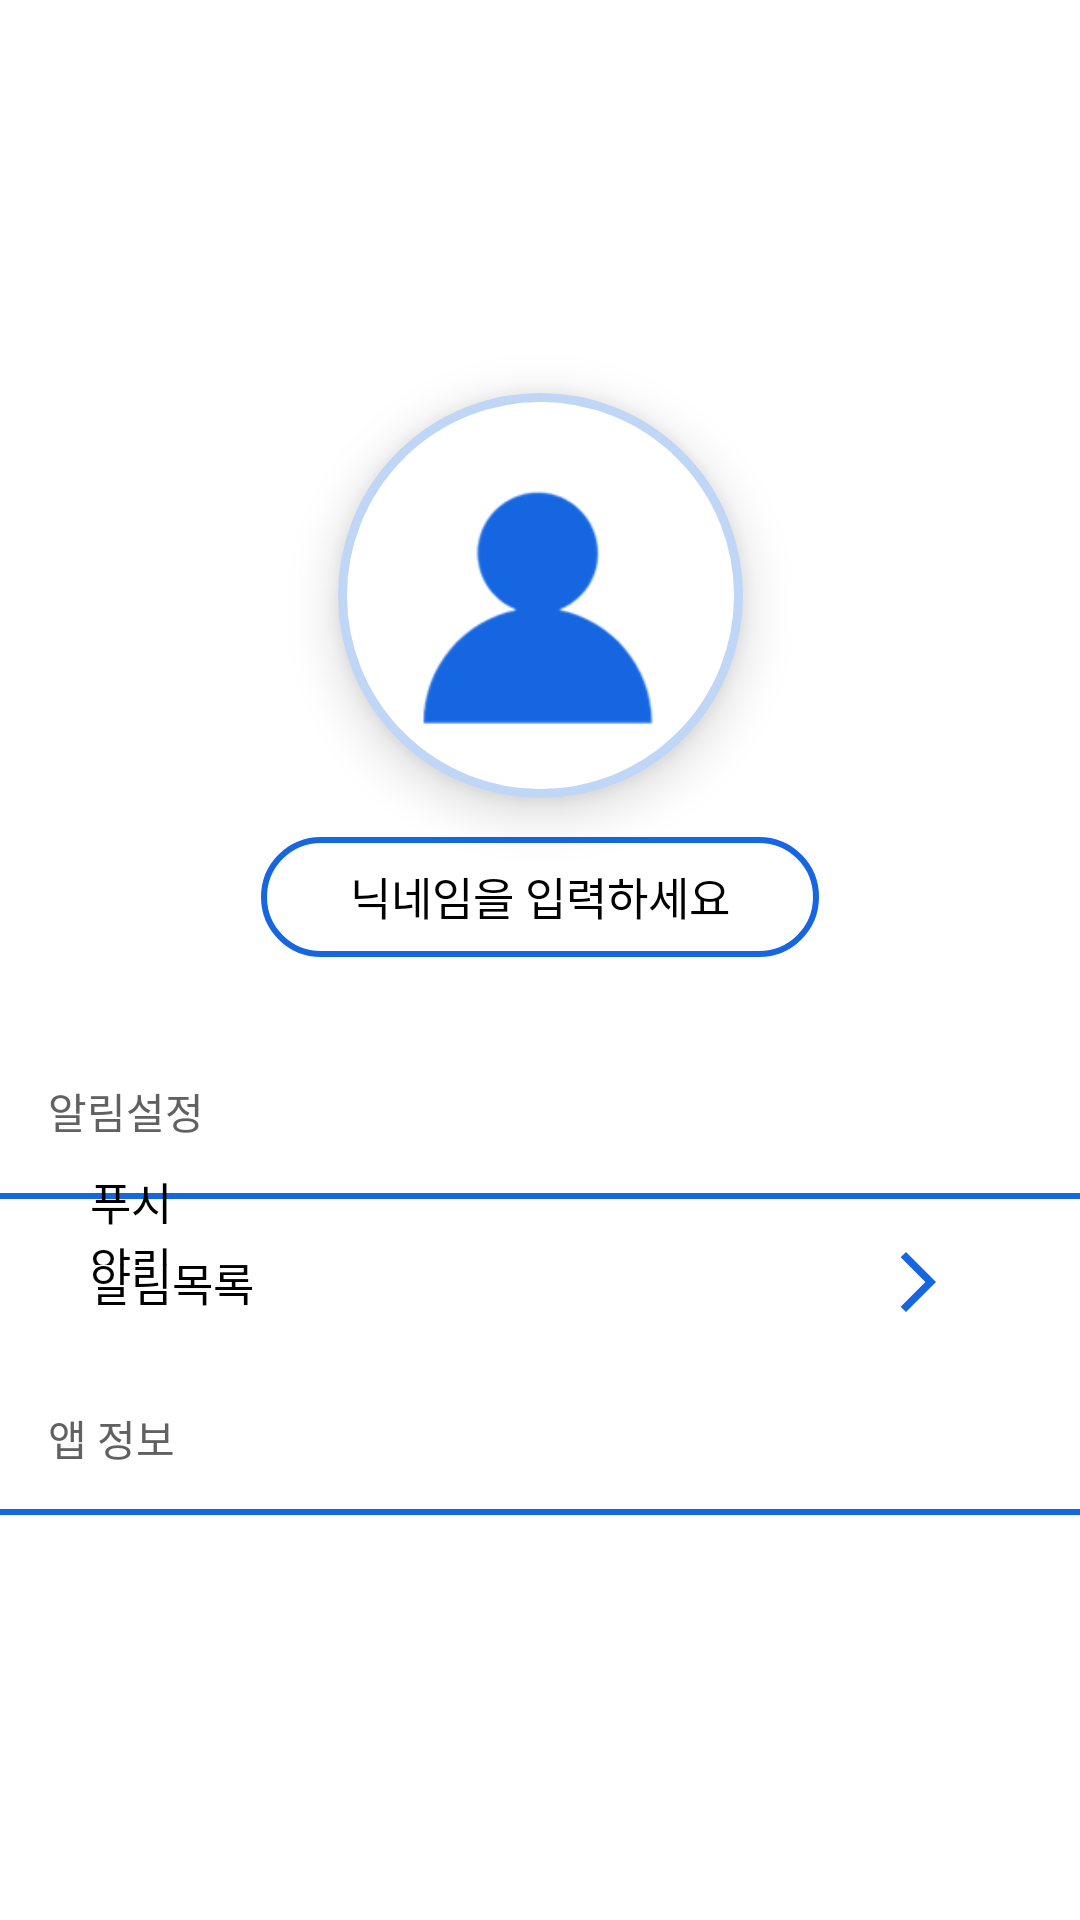

Icons on this 1080w x 1920h Android screen, each with its box as (x1, y1, x2, y2):
login user: (423, 491, 653, 724)
